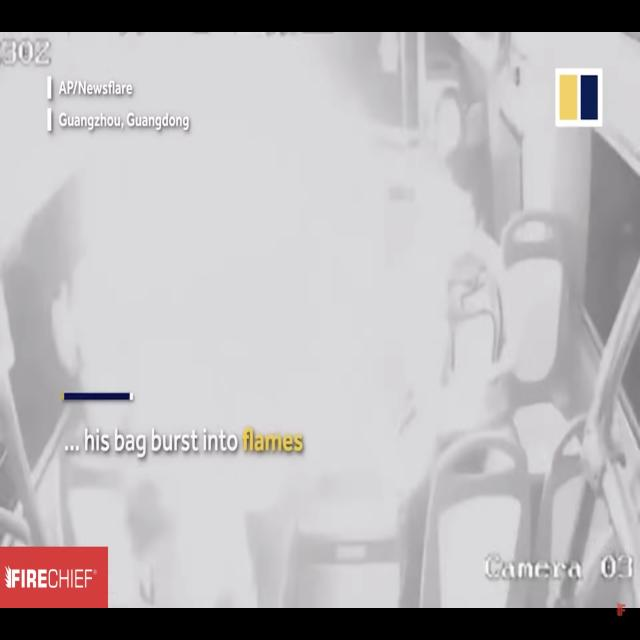Atencao: (67, 147, 489, 421)
Monitorando: (15, 45, 631, 583)
